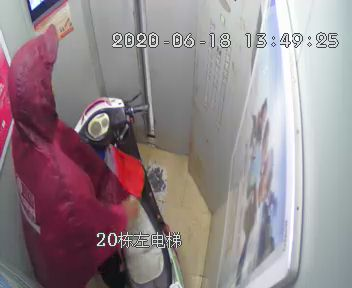Electric-bicycle: (63, 95, 180, 287)
